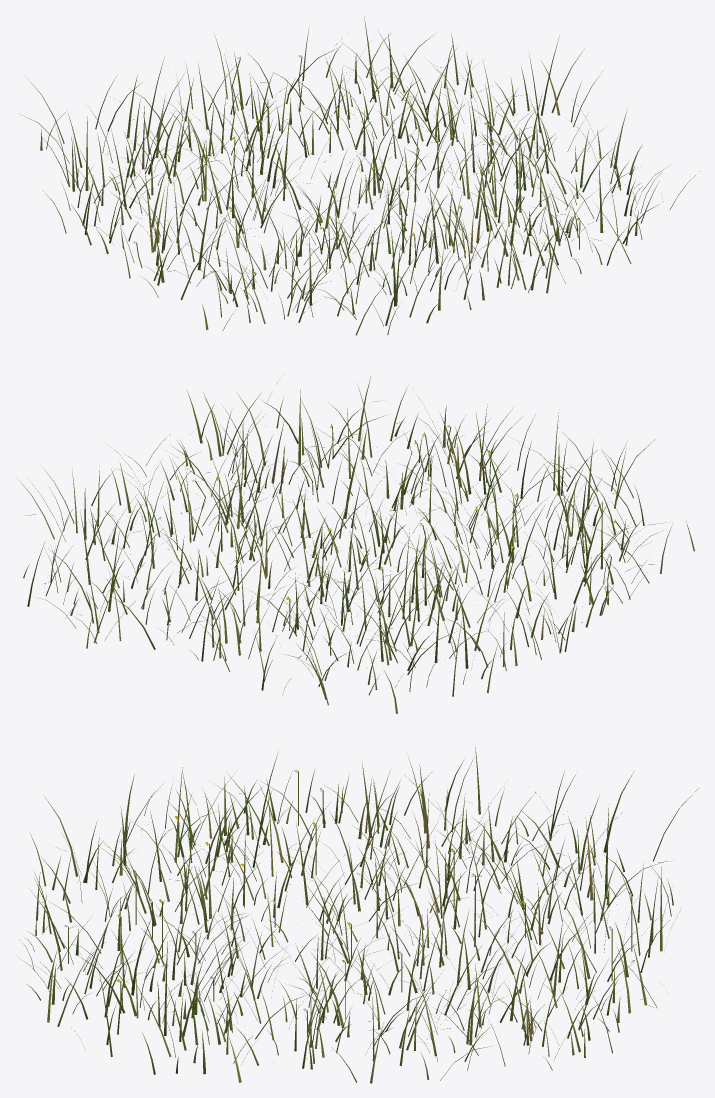
Rendered from sward_b.glb.
3 views of the same model, one above another, from view 1: azimuth 30°, elevation 25°; view 2: azimuth 150°, elevation 25°; view 3: azimuth 270°, elevation 25° (orthographic). The views are drawn at different scales.
Parts seen in each view (by area): view 1: sward_b; view 2: sward_b; view 3: sward_b.
Part boxes in pixels (left/top/right/bottom): sward_b: left=22, top=16, right=699, bottom=335; sward_b: left=16, top=377, right=694, bottom=713; sward_b: left=19, top=747, right=698, bottom=1083.
Bounding box in the file's own units: 1.31 × 0.1791 × 1.28.
